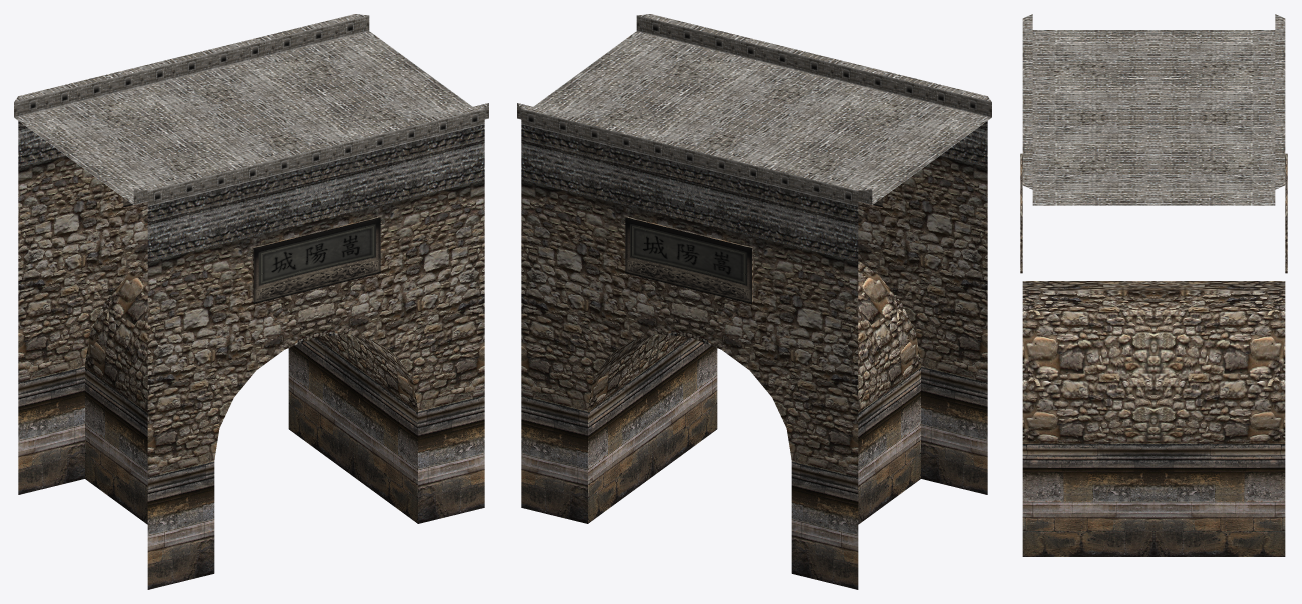
File: SongCity_gate.FBX
3 views of the same model, side by side, from view 1: azimuth 30°, elevation 25°; view 2: azimuth 150°, elevation 25°; view 3: azimuth 270°, elevation 25° (orthographic).
Parts seen in each view (by area): view 1: gate; view 2: gate; view 3: gate.
Part boxes in pixels (x1,y1,x2,y2): gate: (14,14,488,589); gate: (517,14,991,589); gate: (1020,14,1287,556).
Bounding box in the file's own units: 3427 × 3678 × 2200.
Materials: 4 (4 with a texture image).
